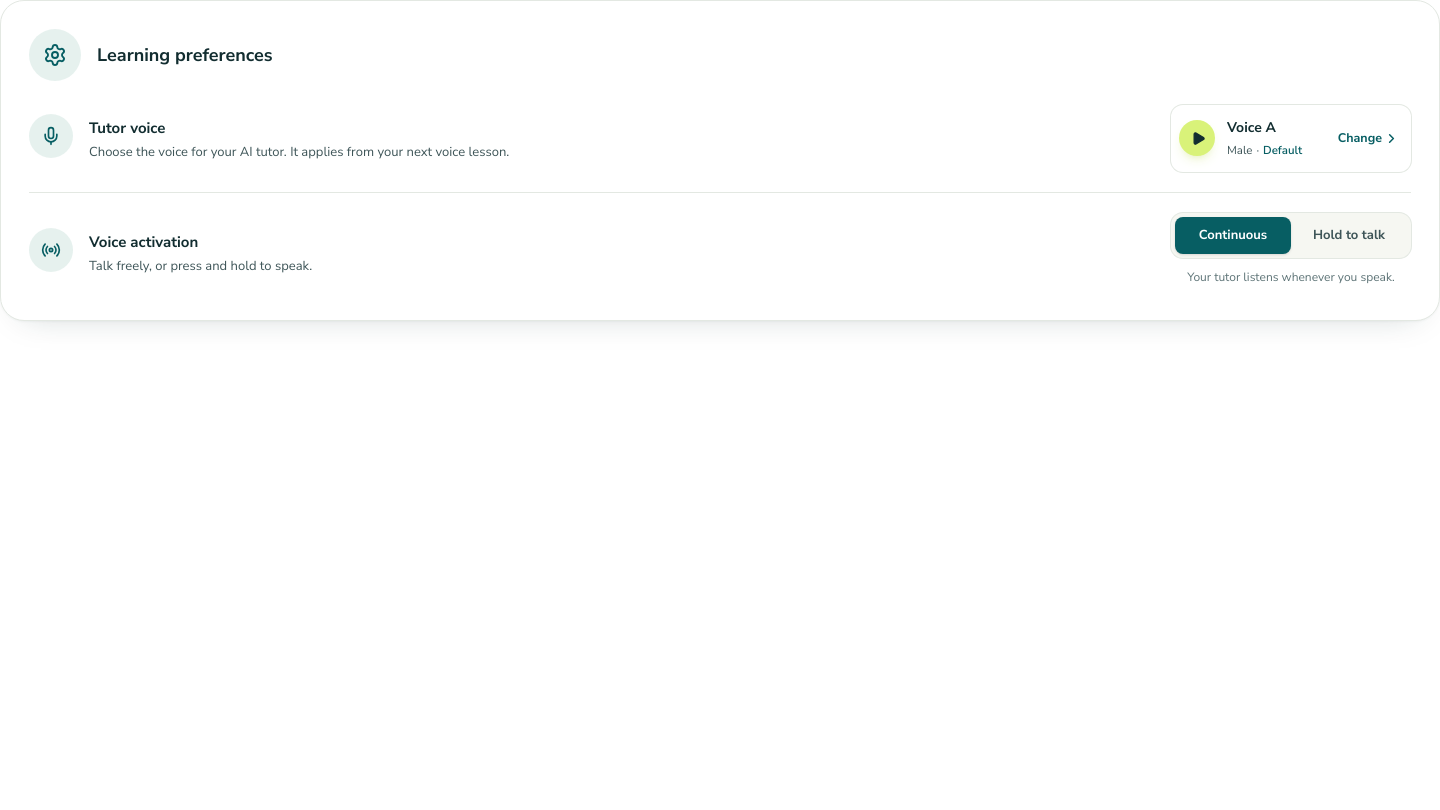
Test: Learning preferences — tutor voice catalogue (the backend's app voices) › lists every voice with its own preview, and hearing one never saves it
Click the button "Change voice" at [1316, 138], box [1225, 113, 1407, 164]
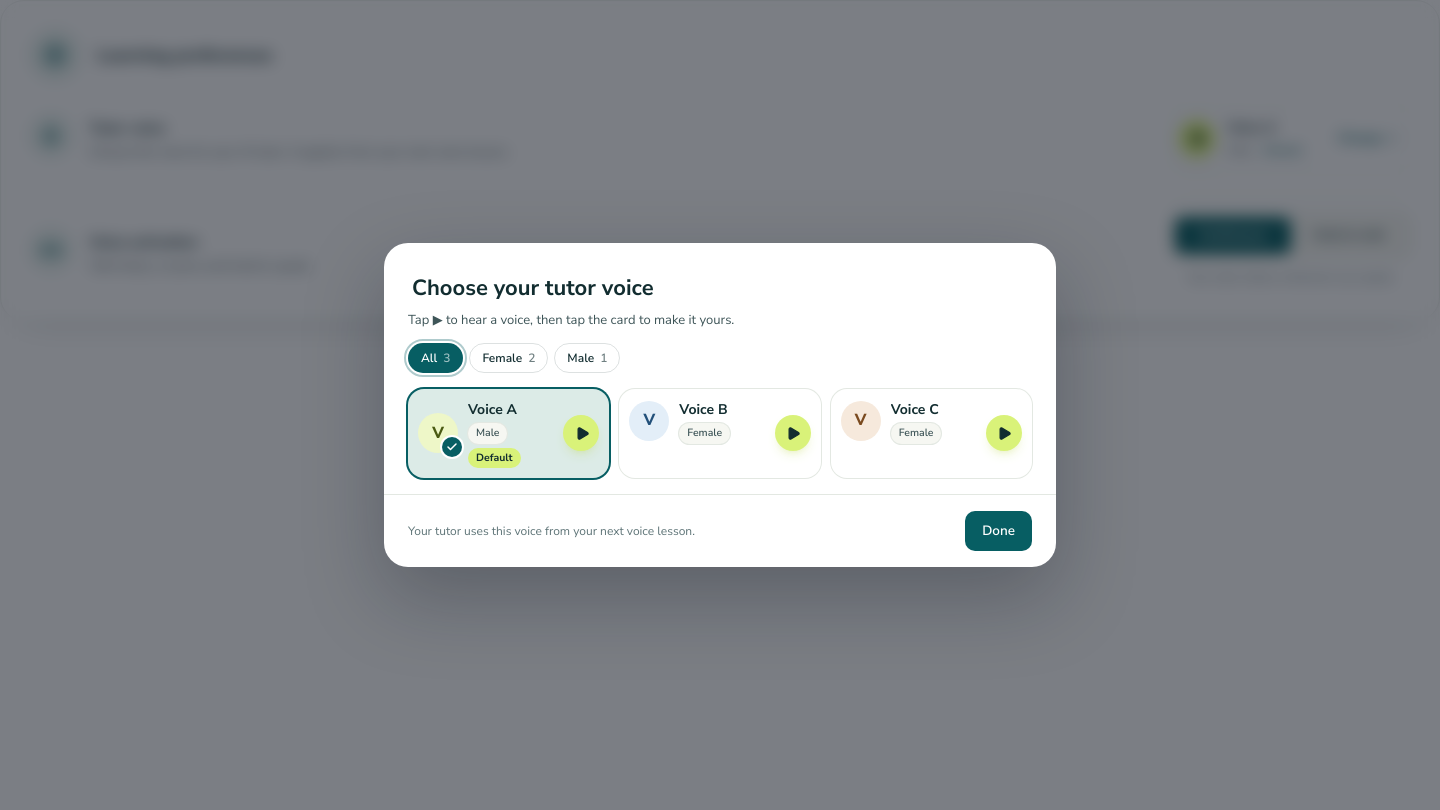
Click the button named "Play a sample of Voice C" at [1004, 434], box [986, 416, 1022, 452]
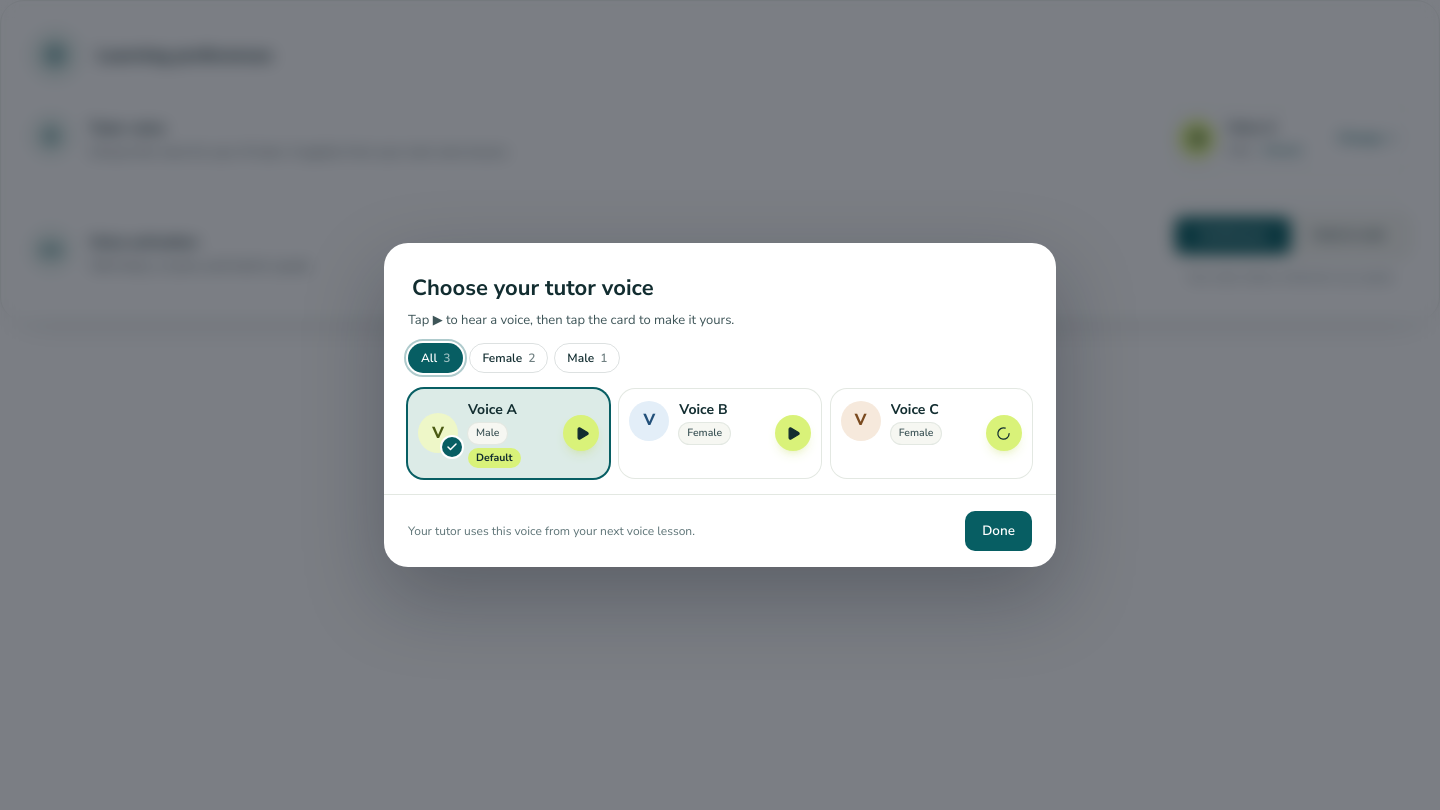
Click the button named "Play a sample of Voice B" at [793, 434], box [775, 416, 811, 452]
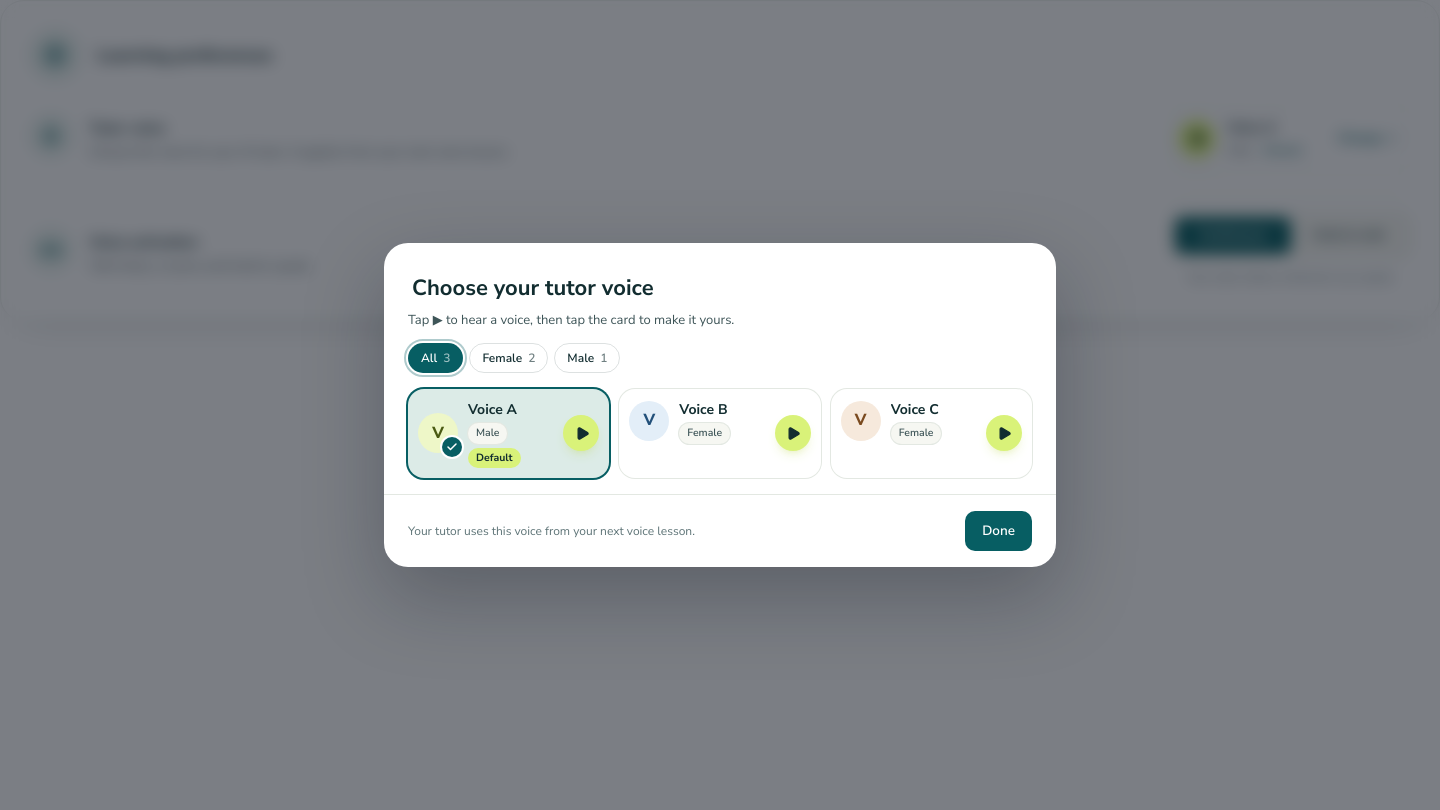
Check: the button named "Stop the sample of Voice B" is shown, box [775, 416, 811, 452]
Check: the button named "Play a sample of Voice C" is shown, box [986, 416, 1022, 452]
